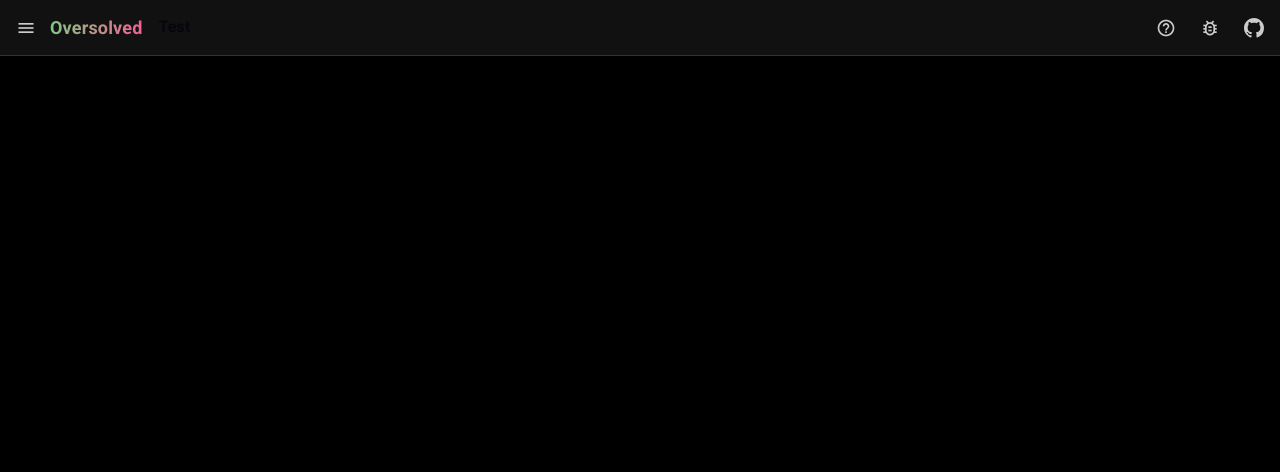
Test case: AppHeader bug report › opens the report store from the header button
The image size is (1280, 472).
Click the button named "Report a bug" at (1210, 28), box [1190,8,1230,48]
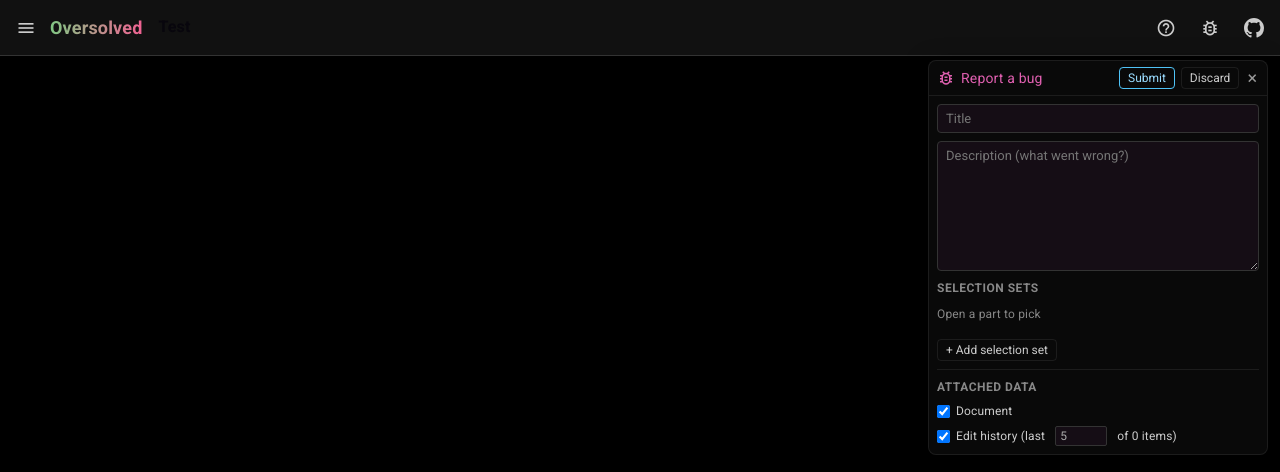
Result: the text "Report a bug" is shown at [961,70,1043,86]
